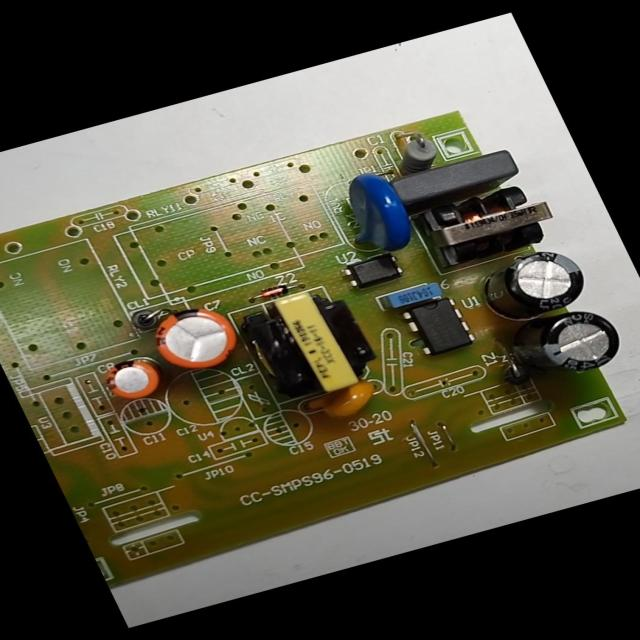Cap1: (137, 298, 249, 377)
Cap2: (96, 355, 166, 405)
Cap3: (466, 244, 597, 330)
Cap4: (499, 301, 631, 388)
MOSFET: (397, 294, 481, 361)
Mov: (325, 166, 423, 262)
Resistor: (383, 134, 448, 180)
Transformer: (230, 279, 388, 409), (411, 178, 563, 270)
